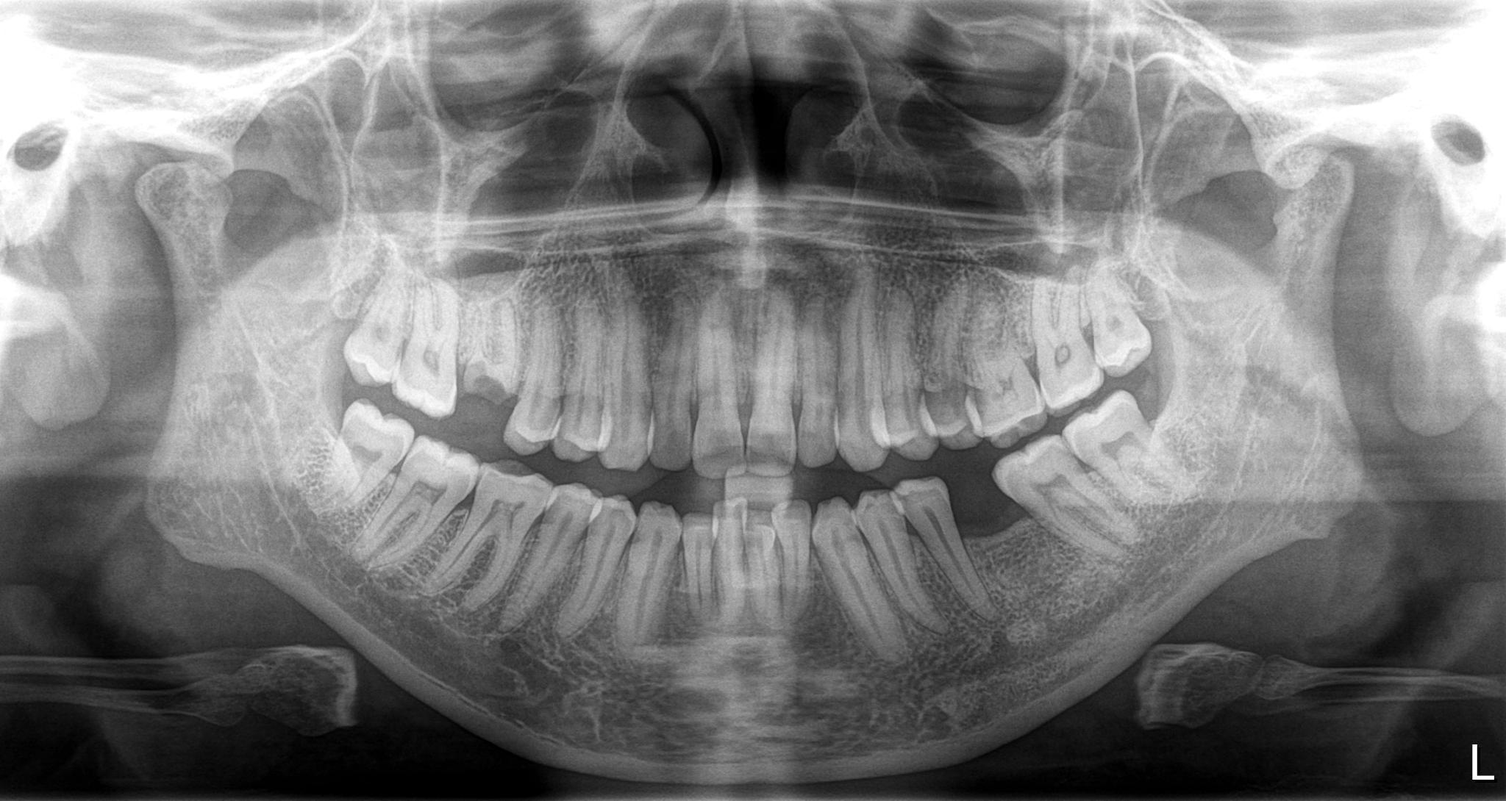Dental Caries: (463, 367, 514, 409), (1048, 329, 1076, 375)
Impacted Third Molar: (1083, 399, 1167, 510), (335, 406, 404, 497)
Missing Tooth: (956, 487, 1039, 592)
